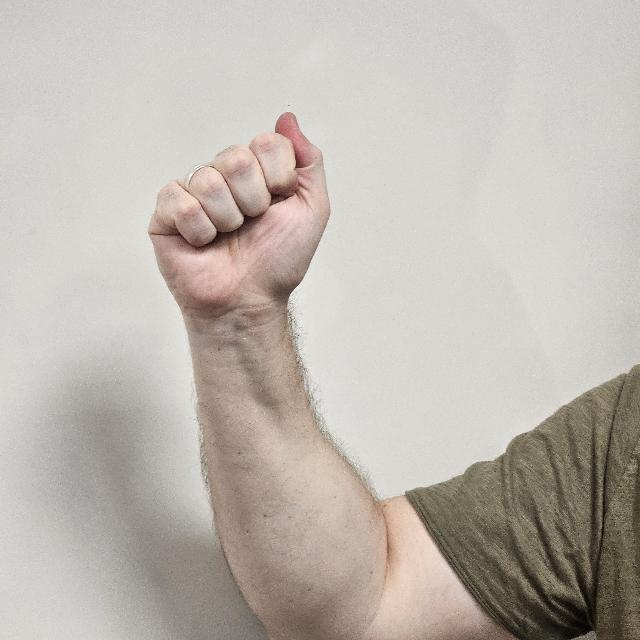Quadro: (150, 103, 332, 330)
